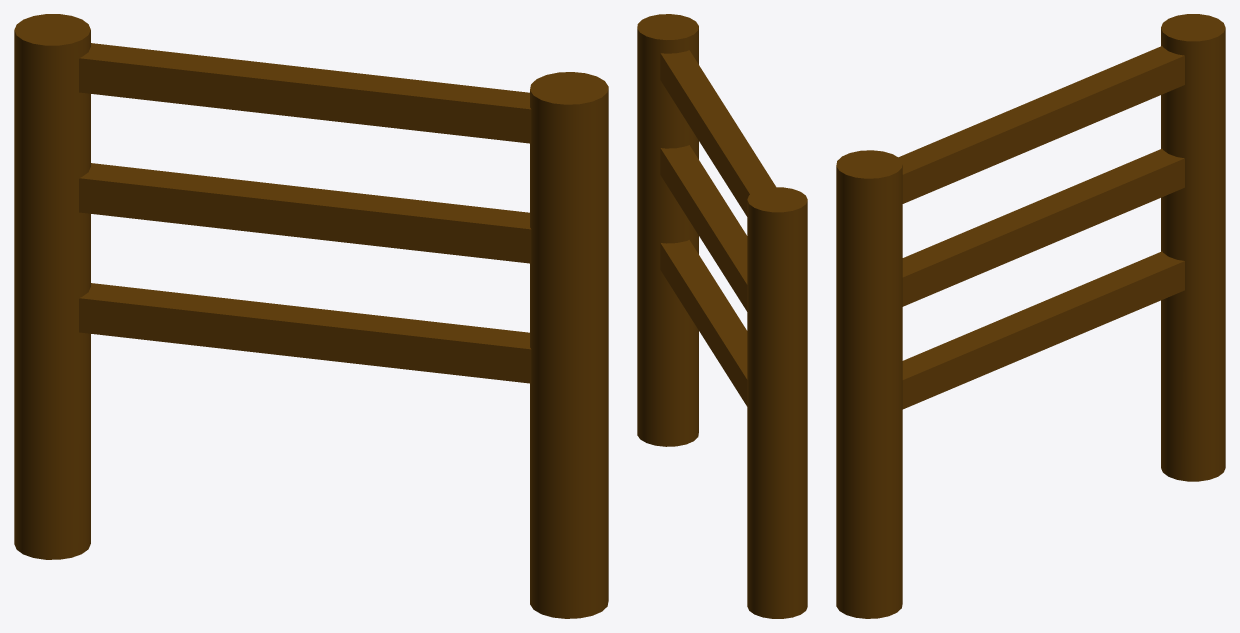
Rendered from Fence1x1.fbx.
3 renders of one model, left to right at view 1: azimuth 30°, elevation 25°; view 2: azimuth 150°, elevation 25°; view 3: azimuth 270°, elevation 25°, orthographic. The views are drawn at different scales.
Parts seen in each view (by area): view 1: Wood_mat Mesh (1); view 2: Wood_mat Mesh (1); view 3: Wood_mat Mesh (1).
Part boxes in pixels (x1=…): Wood_mat Mesh (1): x1=14, y1=14, x2=608, y2=618; Wood_mat Mesh (1): x1=637, y1=14, x2=807, y2=618; Wood_mat Mesh (1): x1=836, y1=14, x2=1225, y2=618.
Bounding box in the file's own units: 1.2 × 1.5 × 1.2.
